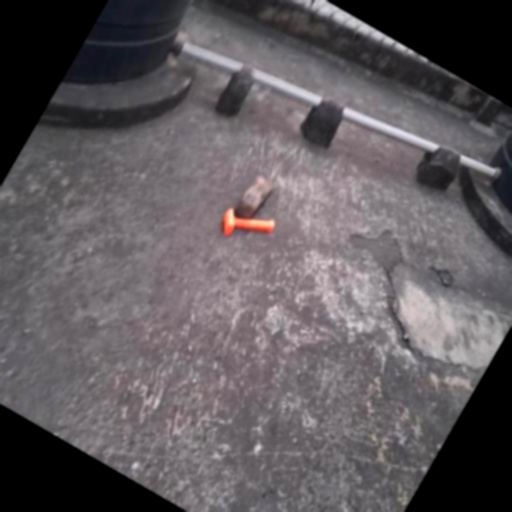mallet: (215, 204, 272, 254)
